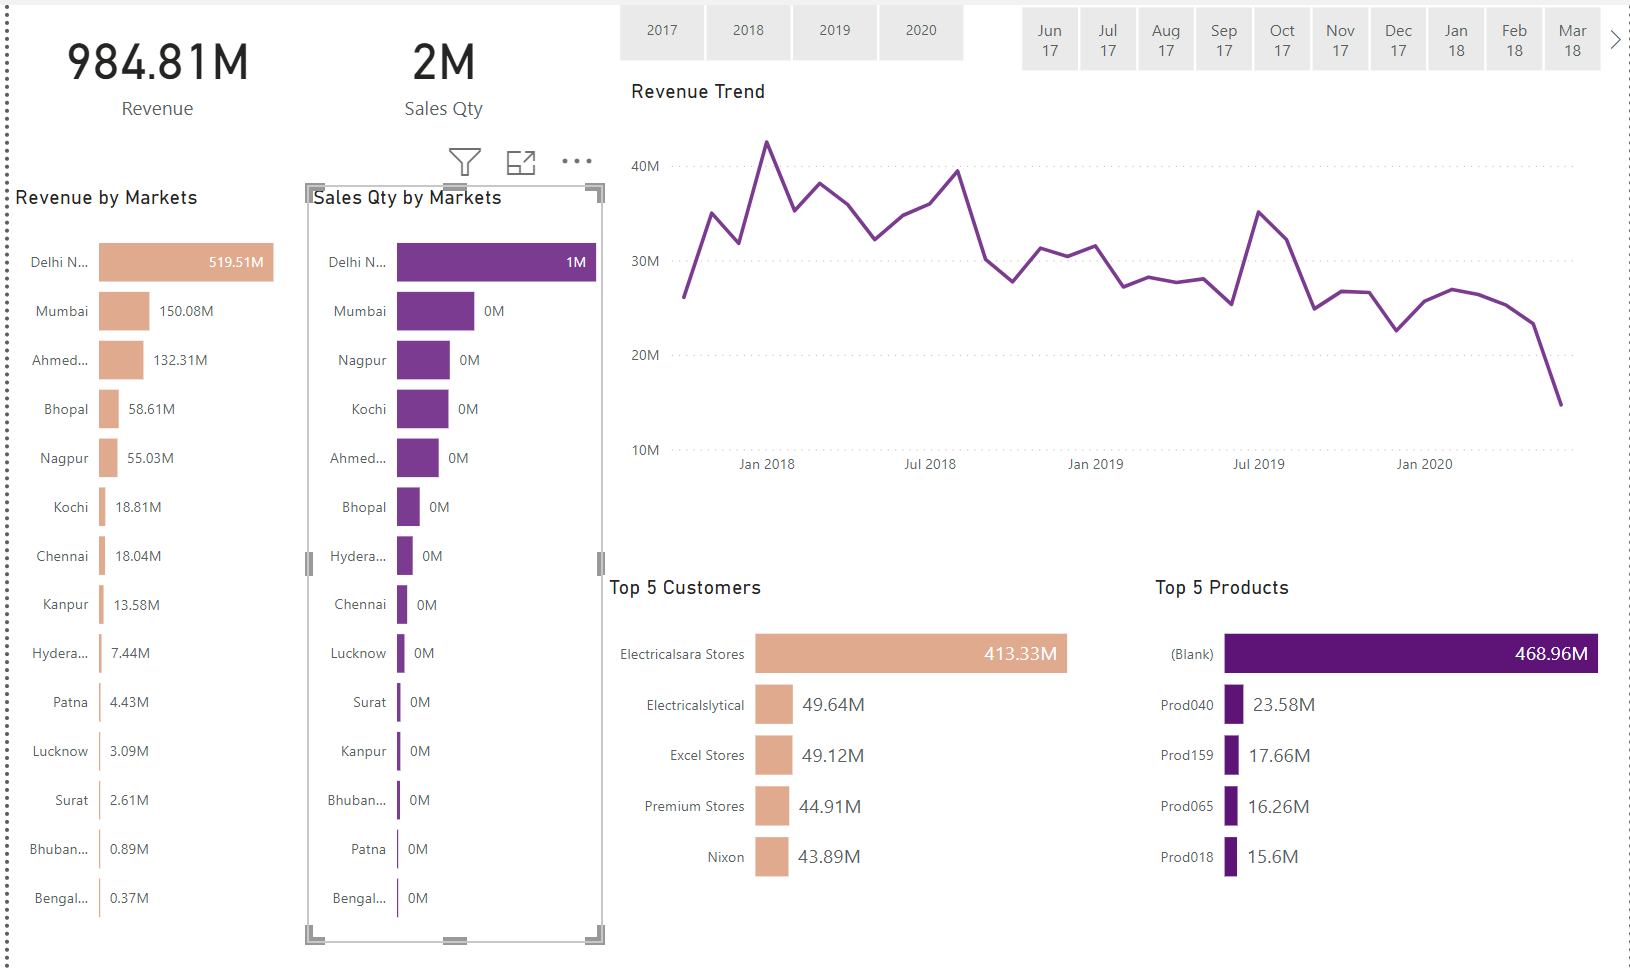

What the dashboard file says about the page in this screenshot:
{"tool":"powerbi","page":{"name":"Page 1","canvas":[1350,850],"ordinal":0},"visuals":[{"type":"card","fields":{"Values":["BaseMeasures (2).Revenue"]},"box":[0,0,247.5,193.1],"z":0},{"type":"card","fields":{"Values":["BaseMeasures (2).Sales Qty"]},"box":[247.9,0,227.9,193.1],"z":1000},{"type":"barChart","title":"Revenue by Markets","fields":{"Y":["BaseMeasures (2).Revenue"],"Category":["sales markets.markets_name"]},"box":[0,193.1,247.9,631.9],"z":2000},{"type":"barChart","title":"Sales Qty by Markets","fields":{"Y":["BaseMeasures (2).Sales Qty"],"Category":["sales markets.markets_name"]},"box":[247.9,193.1,247.9,631.9],"z":3000},{"type":"slicer","fields":{"Values":["sales date.year"]},"box":[482.8,29.9,335.9,66.6],"z":4000},{"type":"slicer","fields":{"Values":["sales date.cy_date"]},"box":[818.7,38.1,531.8,66.6],"z":5000},{"type":"barChart","title":"Top 5 Customers","fields":{"Y":["BaseMeasures (2).Revenue"],"Category":["sales customers.custmer_name"]},"box":[495.8,519,446.2,274.3],"z":6000},{"type":"barChart","title":"Top 5 Products","fields":{"Y":["BaseMeasures (2).Revenue"],"Category":["sales products.product_code"]},"box":[950.5,519,399.8,274.3],"z":7000},{"type":"lineChart","title":"Revenue Trend","fields":{"Y":["BaseMeasures (2).Revenue"],"Category":["sales date.cy_date"]},"box":[513.8,104.4,809.1,338.6],"z":8000}]}

Visuals, with their boxes on the page's 1350x850 design canvas (x1, y1, x2, y2). These are canvas units, not pixel positions in the 1630x968 screenshot, which may show the page scaled, cropped or inside an application window:
card - BaseMeasures (2).Revenue: x1=0 y1=0 x2=248 y2=193
card - BaseMeasures (2).Sales Qty: x1=248 y1=0 x2=476 y2=193
"Revenue by Markets" barChart: x1=0 y1=193 x2=248 y2=825
"Sales Qty by Markets" barChart: x1=248 y1=193 x2=496 y2=825
slicer - sales date.year: x1=483 y1=30 x2=819 y2=96
slicer - sales date.cy_date: x1=819 y1=38 x2=1350 y2=105
"Top 5 Customers" barChart: x1=496 y1=519 x2=942 y2=793
"Top 5 Products" barChart: x1=950 y1=519 x2=1350 y2=793
"Revenue Trend" lineChart: x1=514 y1=104 x2=1323 y2=443
